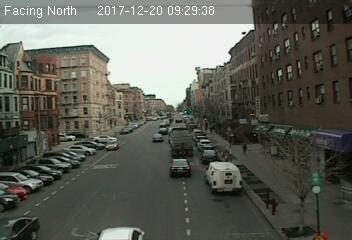car: (169, 157, 192, 176), (201, 148, 220, 161), (105, 140, 119, 151), (151, 133, 163, 143)
truck: (204, 160, 242, 195), (169, 126, 195, 157)
